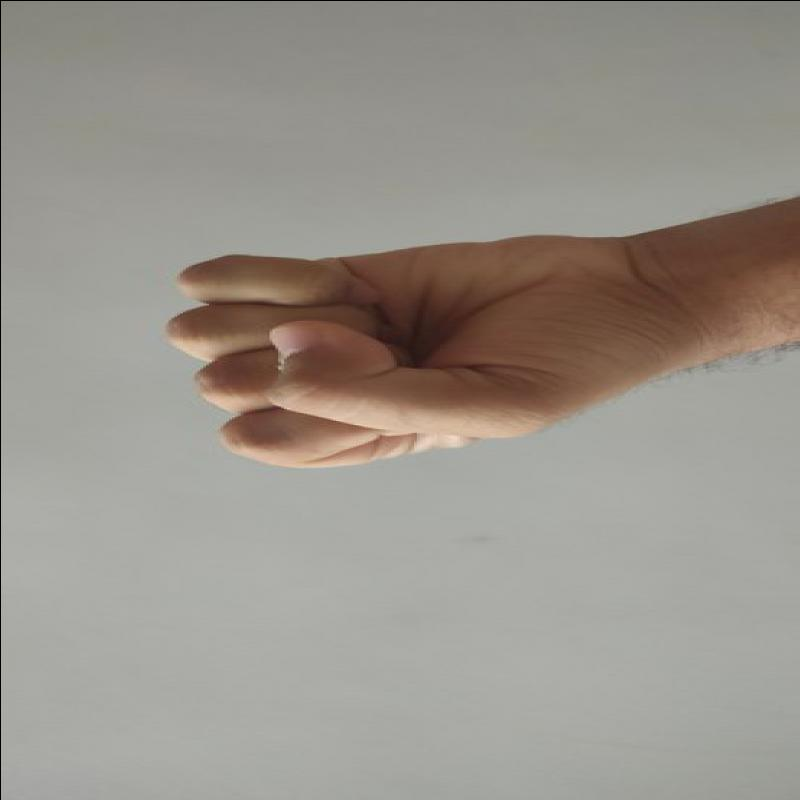Mushti: (162, 211, 660, 477)
